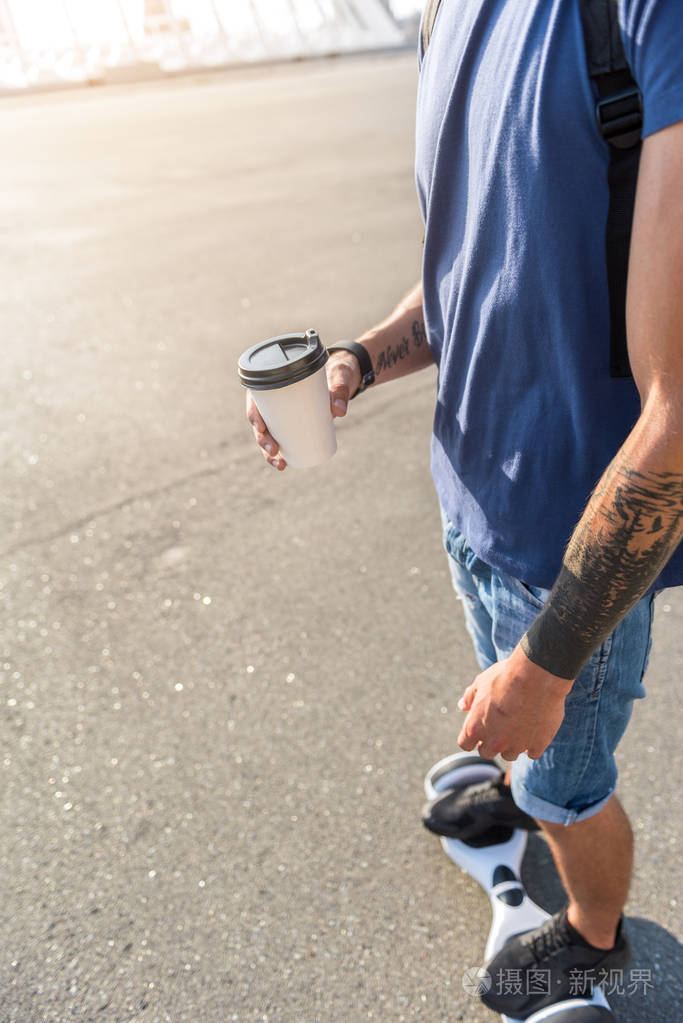no-phone: (228, 323, 372, 476)
